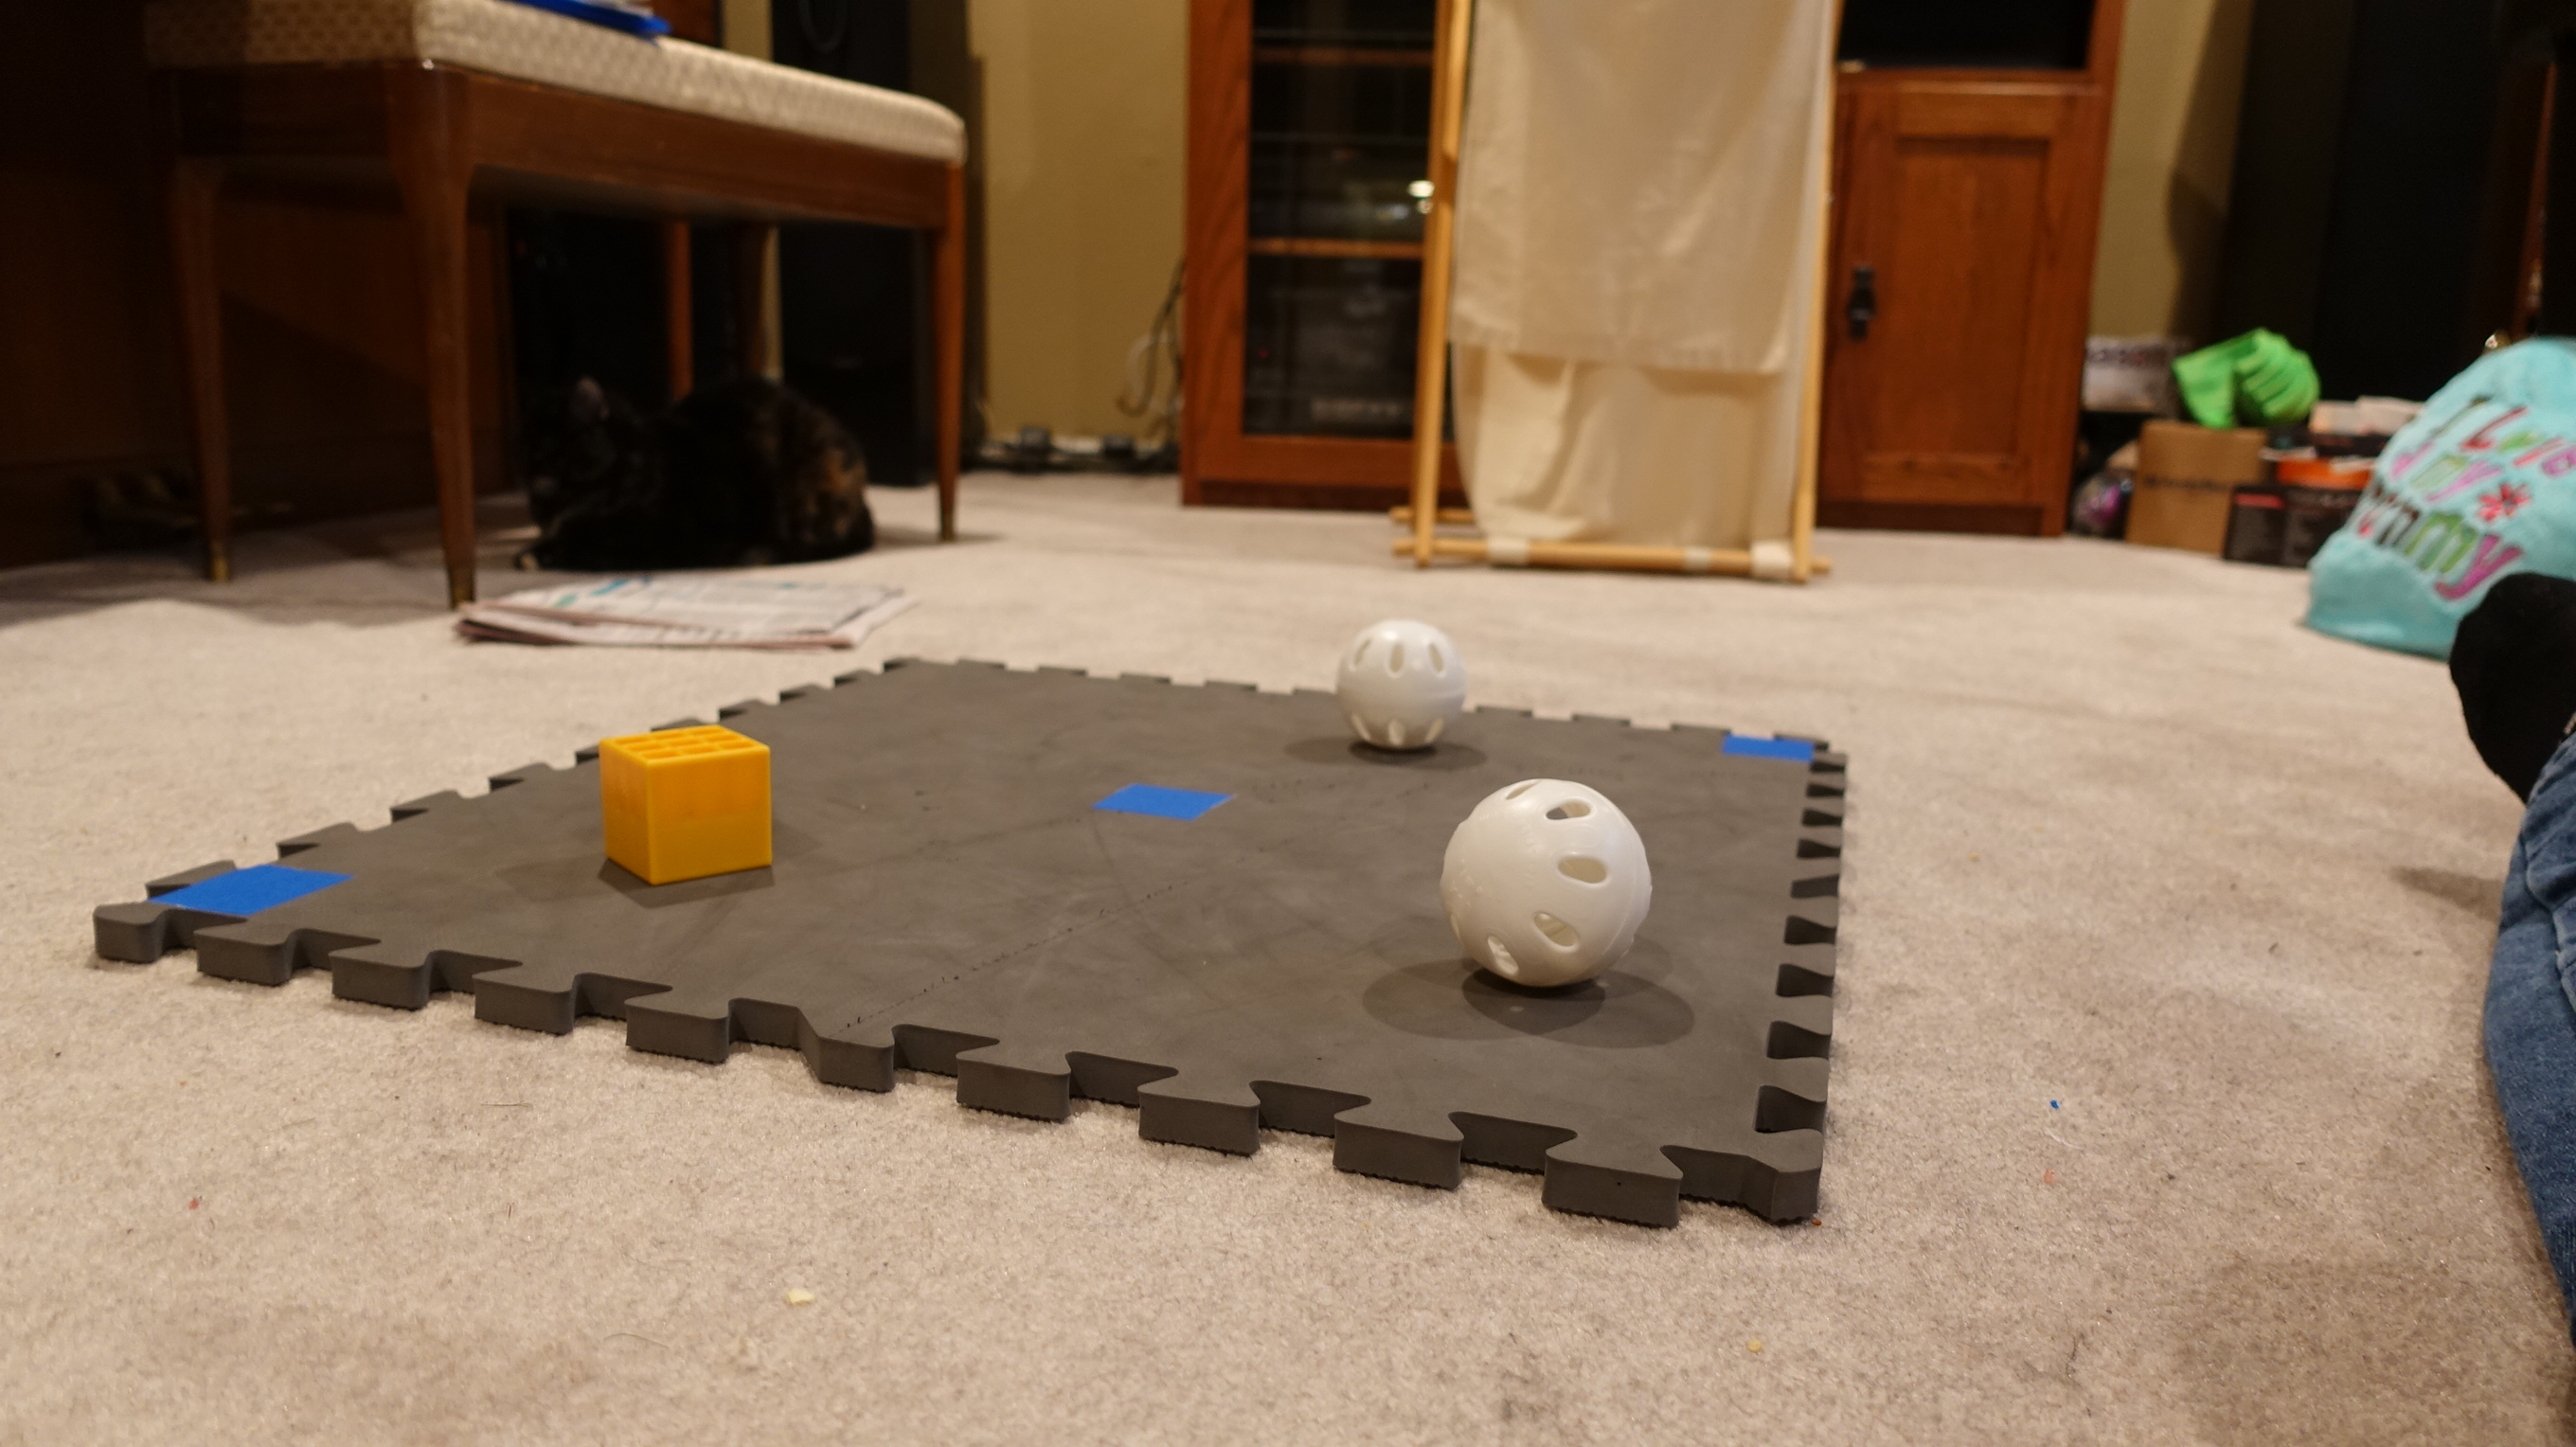gold: (591, 711, 784, 902)
silver: (1431, 771, 1658, 992), (1329, 612, 1467, 755)
